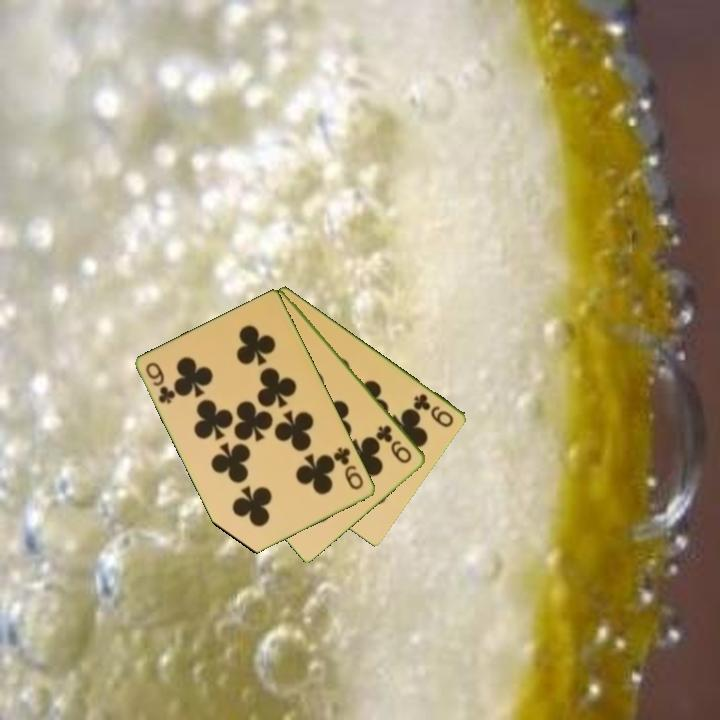9c: (410, 390, 457, 430), (373, 422, 415, 466), (330, 444, 367, 493), (142, 359, 179, 407)
